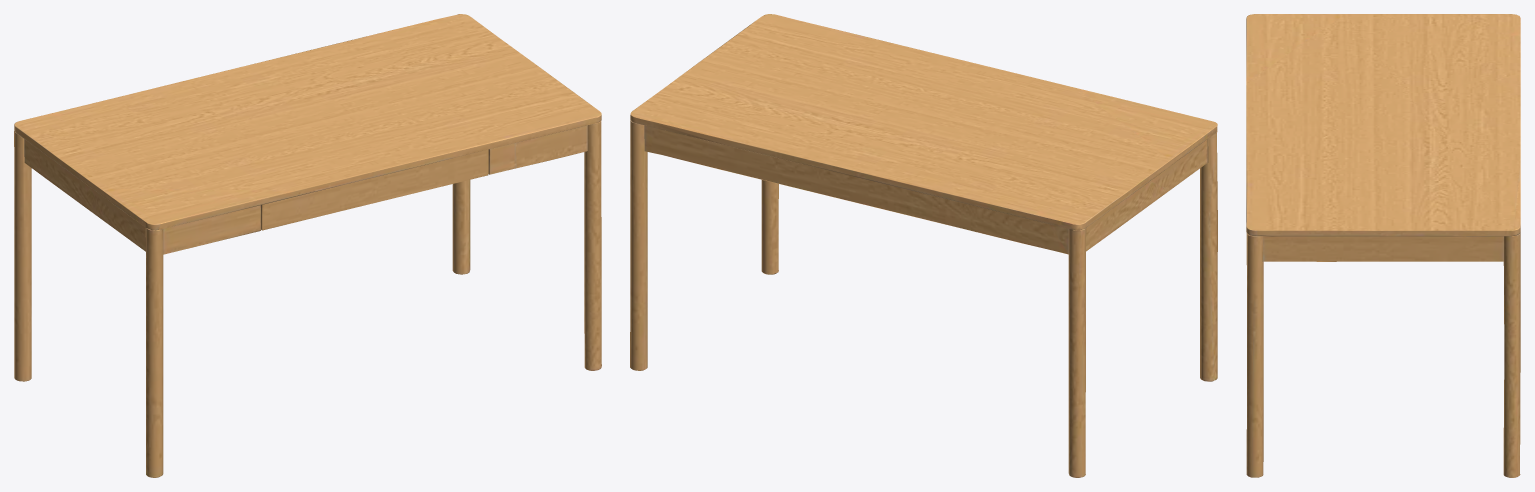
3 views of the same model, side by side, from view 1: azimuth 30°, elevation 25°; view 2: azimuth 150°, elevation 25°; view 3: azimuth 270°, elevation 25° (orthographic). The views are drawn at different scales.
Parts seen in each view (by area): view 1: 30538198-TONSTAD001; view 2: 30538198-TONSTAD001; view 3: 30538198-TONSTAD001.
Part boxes in pixels (<box>): 30538198-TONSTAD001: <box>14,14,601,477</box>; 30538198-TONSTAD001: <box>630,14,1217,477</box>; 30538198-TONSTAD001: <box>1246,14,1520,477</box>.
Size of the model in its own units: 1.4 by 0.7503 by 0.7503.
1 material, 1 textured.
